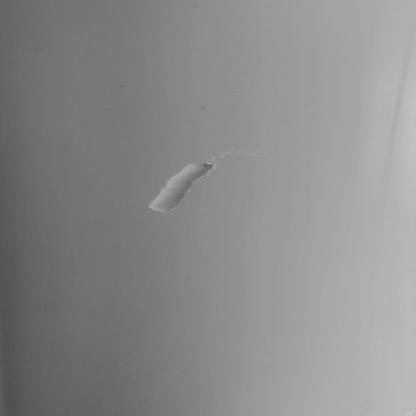sunshang: (145, 153, 227, 214)
